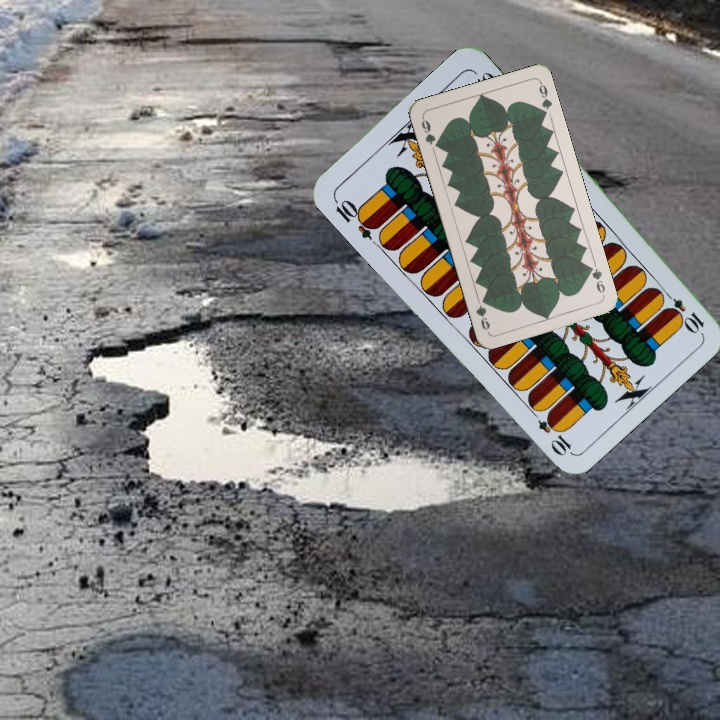E10: (329, 194, 381, 242), (658, 286, 707, 335)
G9: (417, 113, 443, 151), (583, 261, 608, 299)
